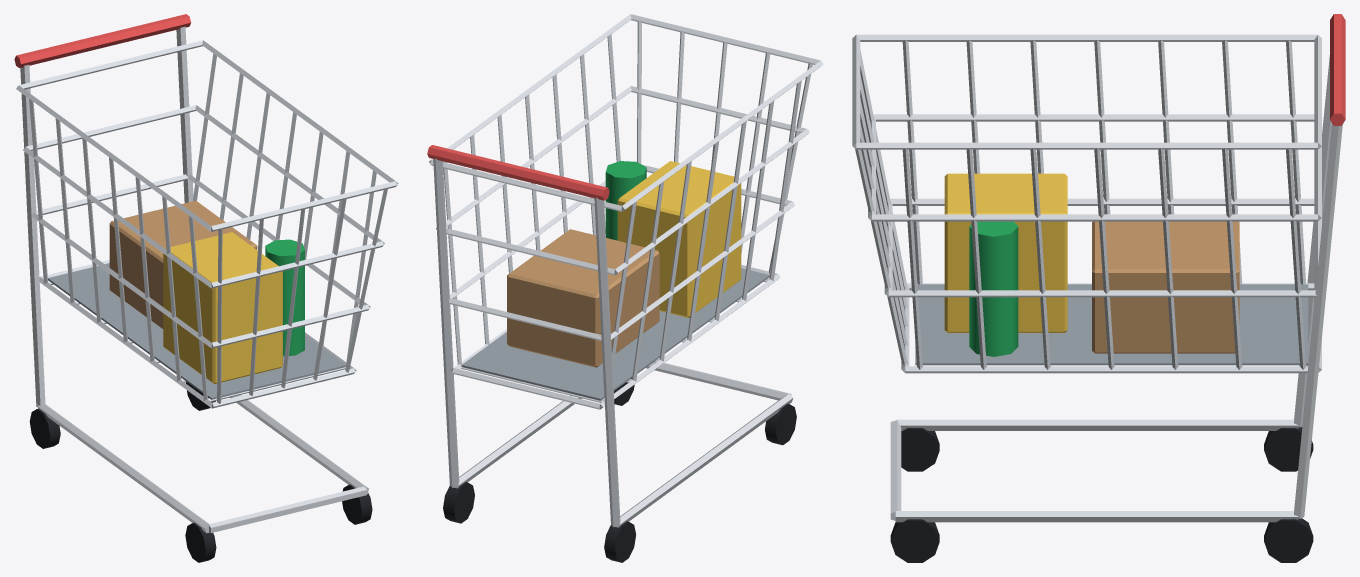
File: shopping_cart.glb
3 views of the same model, side by side, from view 1: azimuth 30°, elevation 25°; view 2: azimuth 150°, elevation 25°; view 3: azimuth 270°, elevation 25° (orthographic). The views are drawn at different scales.
Visible parts, largest first — view 1: shopping_cart; view 2: shopping_cart; view 3: shopping_cart.
Boxes of the visible parts, bbox=[...] form: shopping_cart: bbox=[14, 14, 398, 562]; shopping_cart: bbox=[427, 14, 823, 562]; shopping_cart: bbox=[852, 14, 1345, 562].
Size of the model in its own units: 0.536 by 1.01 by 1.
